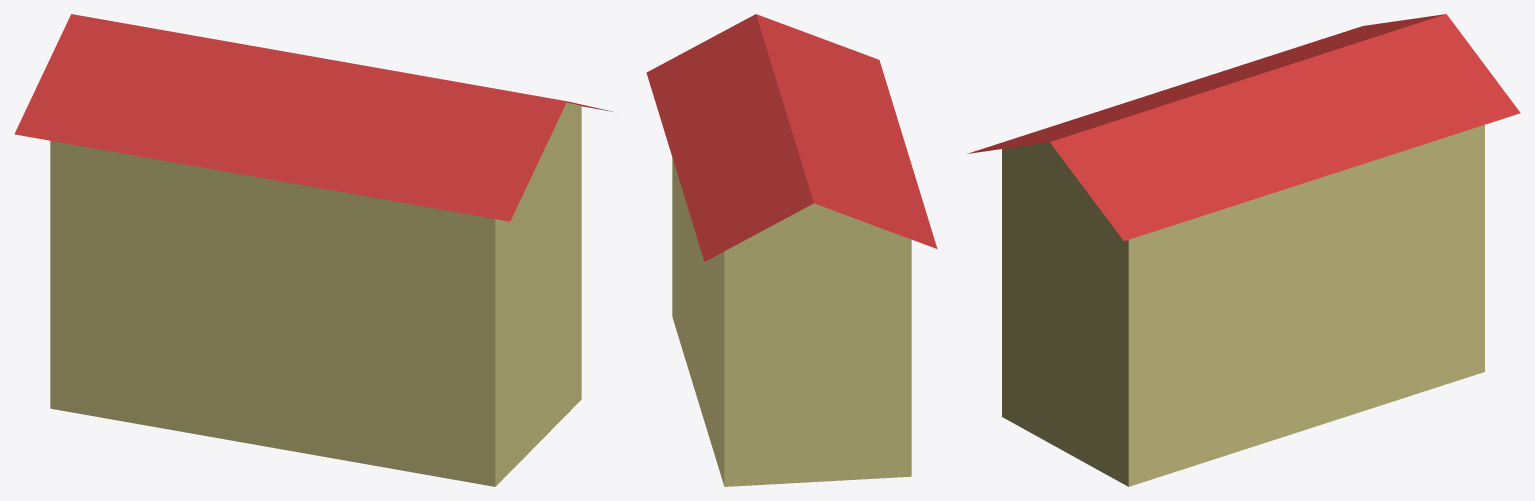
3 views of the same model, side by side, from view 1: azimuth 30°, elevation 25°; view 2: azimuth 150°, elevation 25°; view 3: azimuth 270°, elevation 25° (orthographic). The views are drawn at different scales.
Bounding box in the file's own units: 14.93 × 16.24 × 10.31.
